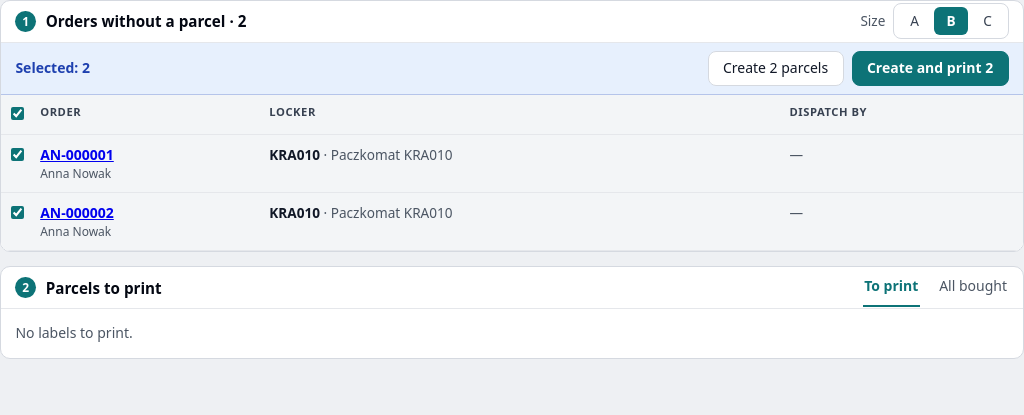
Test: InpostLabelsPanel › creates and prints in one go: one PDF of the parcels that already have a number
Expected: the link "AN-000001" is shown, [40, 145, 114, 164]
Click the button "Create and print 2" at (930, 68), box [852, 51, 1009, 86]
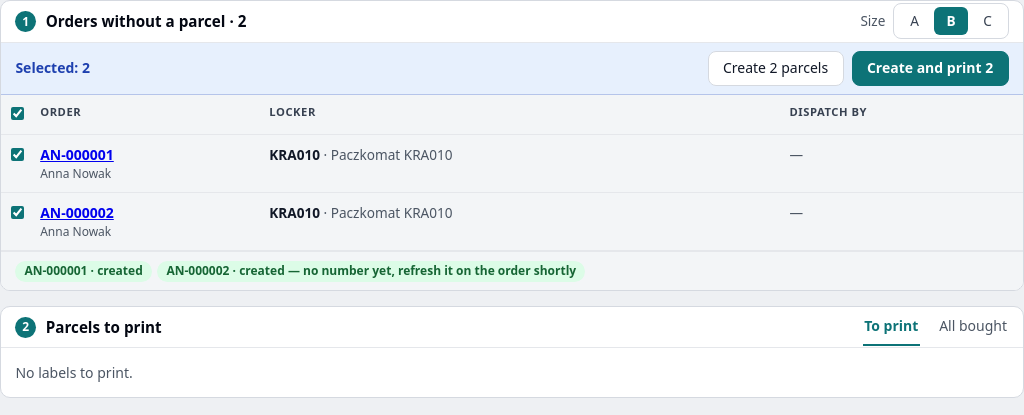
Result: the text "— no number yet, refresh it on the order shortly" is shown at [285, 262, 576, 279]
